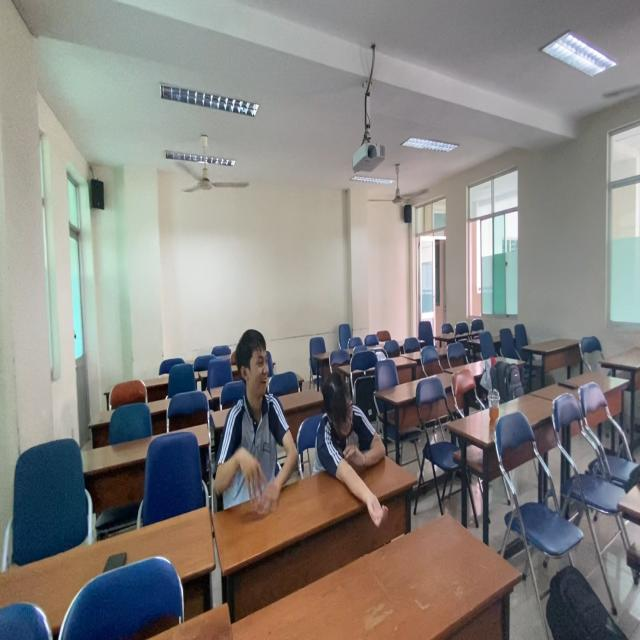sleep: (314, 370, 393, 536)
